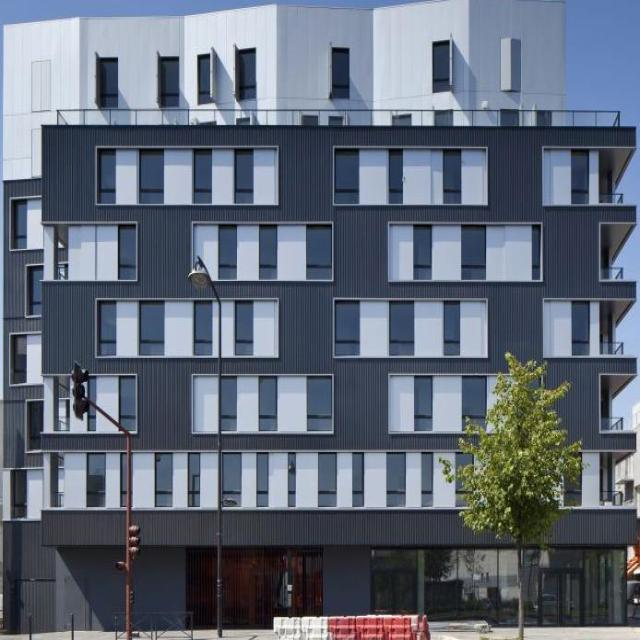door: (374, 547, 615, 625), (190, 551, 323, 629)
railing: (55, 108, 623, 127)
window: (307, 375, 333, 433), (307, 225, 333, 279), (337, 300, 360, 356), (462, 227, 486, 280), (141, 301, 165, 354), (390, 302, 414, 355), (139, 151, 163, 203), (336, 151, 359, 202), (571, 302, 593, 354), (257, 377, 278, 430), (464, 377, 488, 423), (97, 58, 119, 106), (388, 452, 407, 506), (98, 301, 117, 354), (318, 453, 337, 506), (161, 57, 181, 107), (195, 302, 214, 354), (195, 151, 213, 204), (88, 452, 106, 505), (236, 150, 254, 202), (223, 453, 241, 505), (236, 300, 253, 355), (219, 228, 237, 279), (156, 452, 173, 506), (444, 150, 461, 203), (571, 153, 589, 203), (120, 226, 137, 278), (414, 376, 431, 428), (120, 377, 136, 431), (415, 225, 431, 278), (445, 301, 461, 354), (261, 226, 277, 278), (238, 49, 256, 95), (222, 376, 237, 429), (100, 153, 115, 203), (352, 452, 366, 505), (421, 452, 435, 505), (334, 50, 350, 96), (433, 42, 449, 88), (29, 400, 43, 448), (391, 149, 403, 203), (12, 337, 26, 383), (30, 270, 45, 312), (13, 469, 26, 517), (257, 452, 268, 506), (199, 57, 213, 99), (15, 202, 28, 247), (189, 453, 200, 505), (122, 454, 132, 504), (531, 225, 539, 278), (289, 455, 296, 506), (89, 380, 95, 430)
